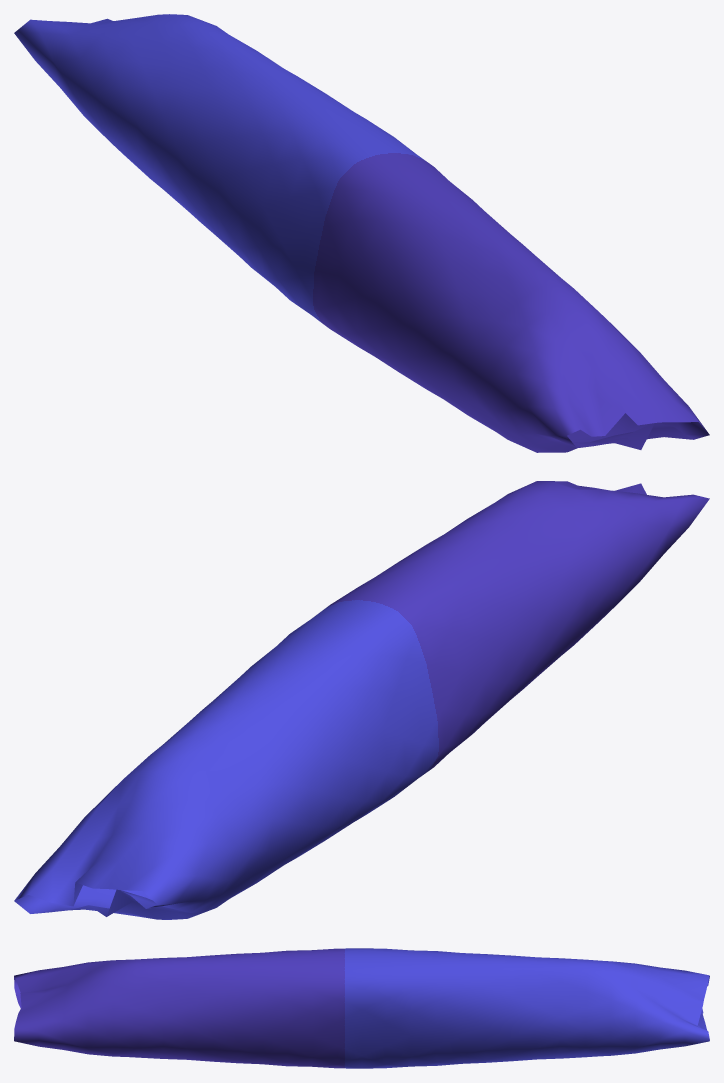
Rendered from masitas.fbx.
The picture shows the model from 3 angles, top to bottom: view 1: azimuth 30°, elevation 25°; view 2: azimuth 150°, elevation 25°; view 3: azimuth 270°, elevation 25°; orthographic projection. The views are drawn at different scales.
Parts seen in each view (by area): view 1: masitas; view 2: masitas; view 3: masitas.
Part boxes in pixels (x1=…): masitas: x1=14, y1=14, x2=709, y2=452; masitas: x1=14, y1=481, x2=709, y2=919; masitas: x1=14, y1=948, x2=709, y2=1068.
Bounding box in the file's own units: 56.48 × 66.3 × 376.
